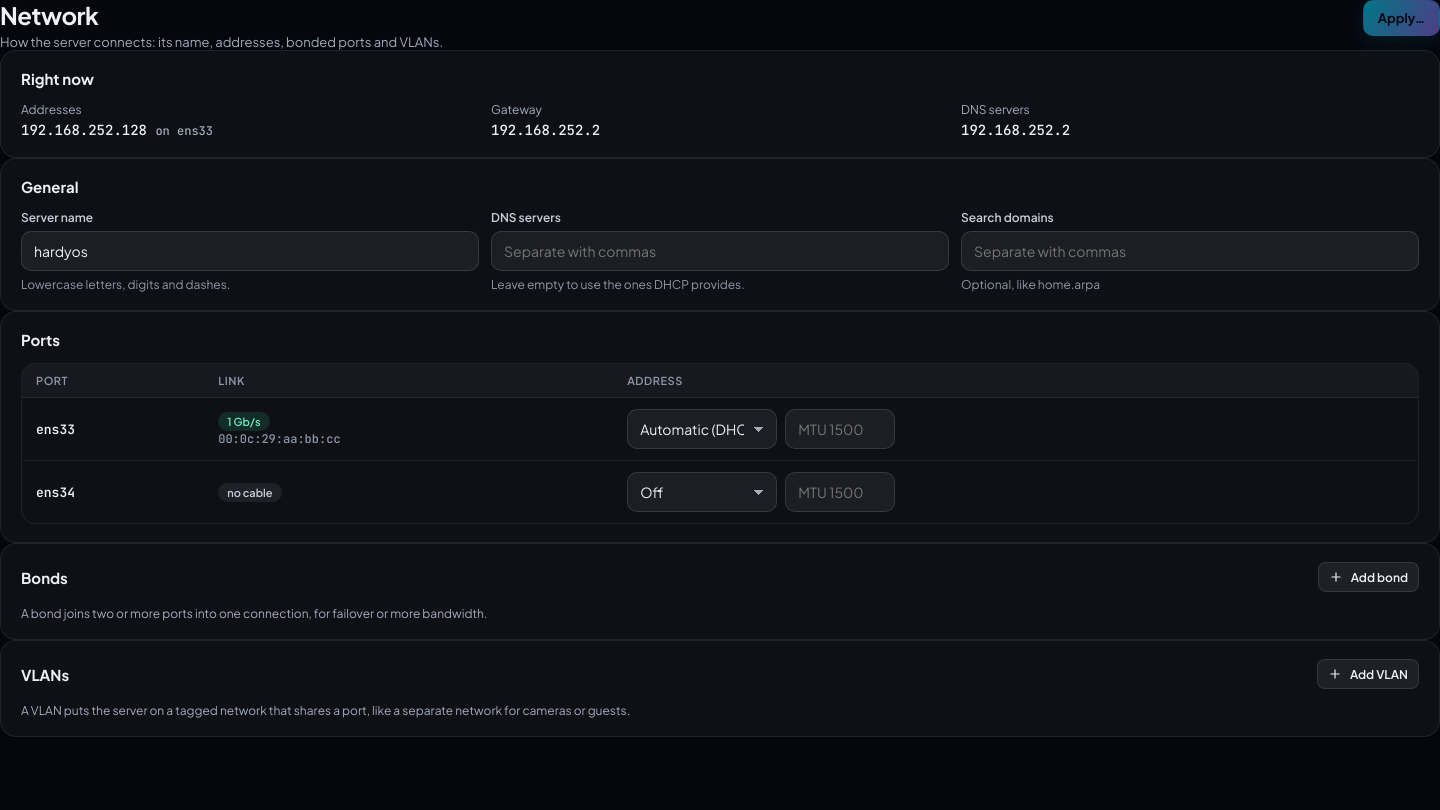
Scenario: Network › lists every problem the server finds
Replace the text in the field showing "hardyos" with "Bad Name". click: x=250, y=251
box: [21,231,479,271]
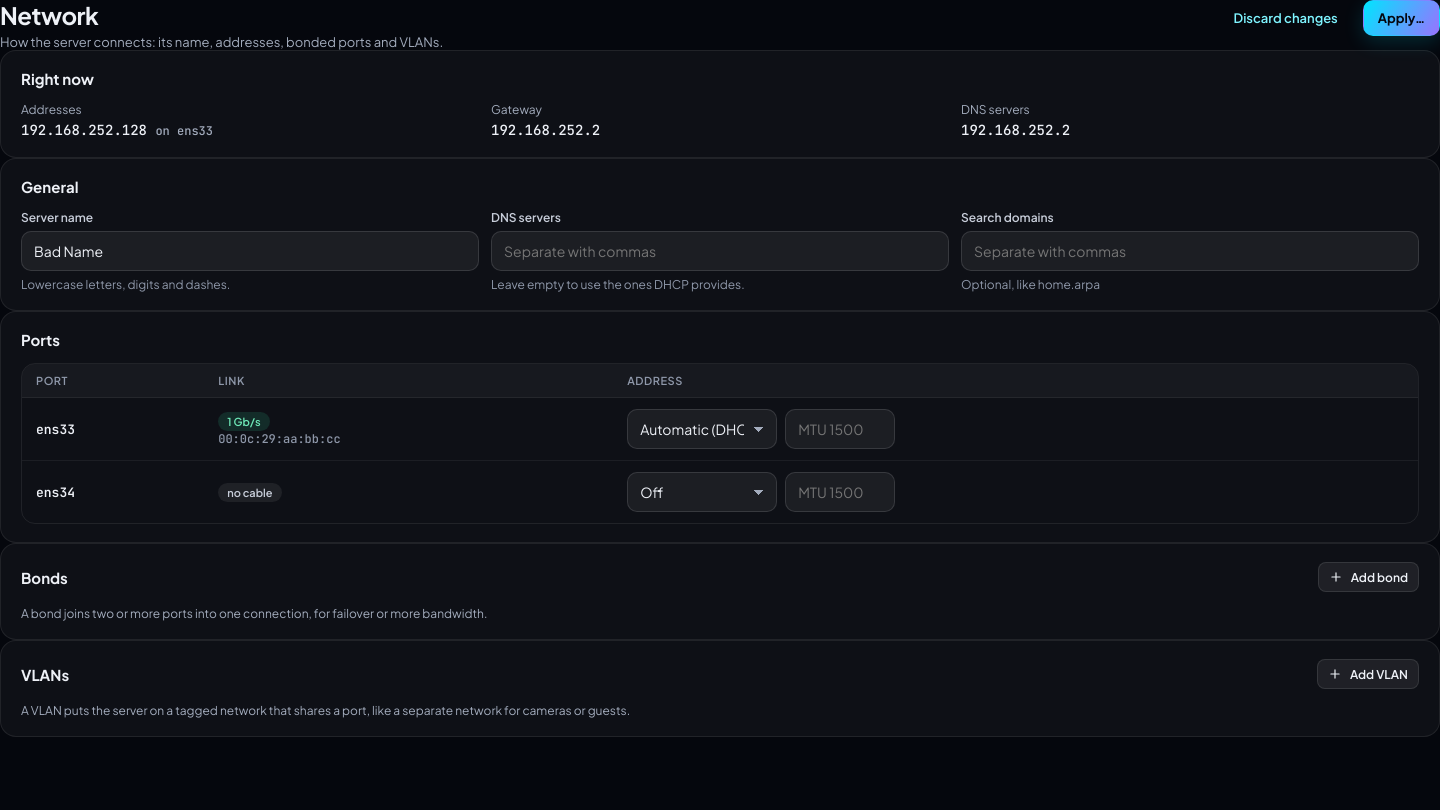
Click the button "Apply…". click: x=1401, y=18
box: [1363,0,1439,36]
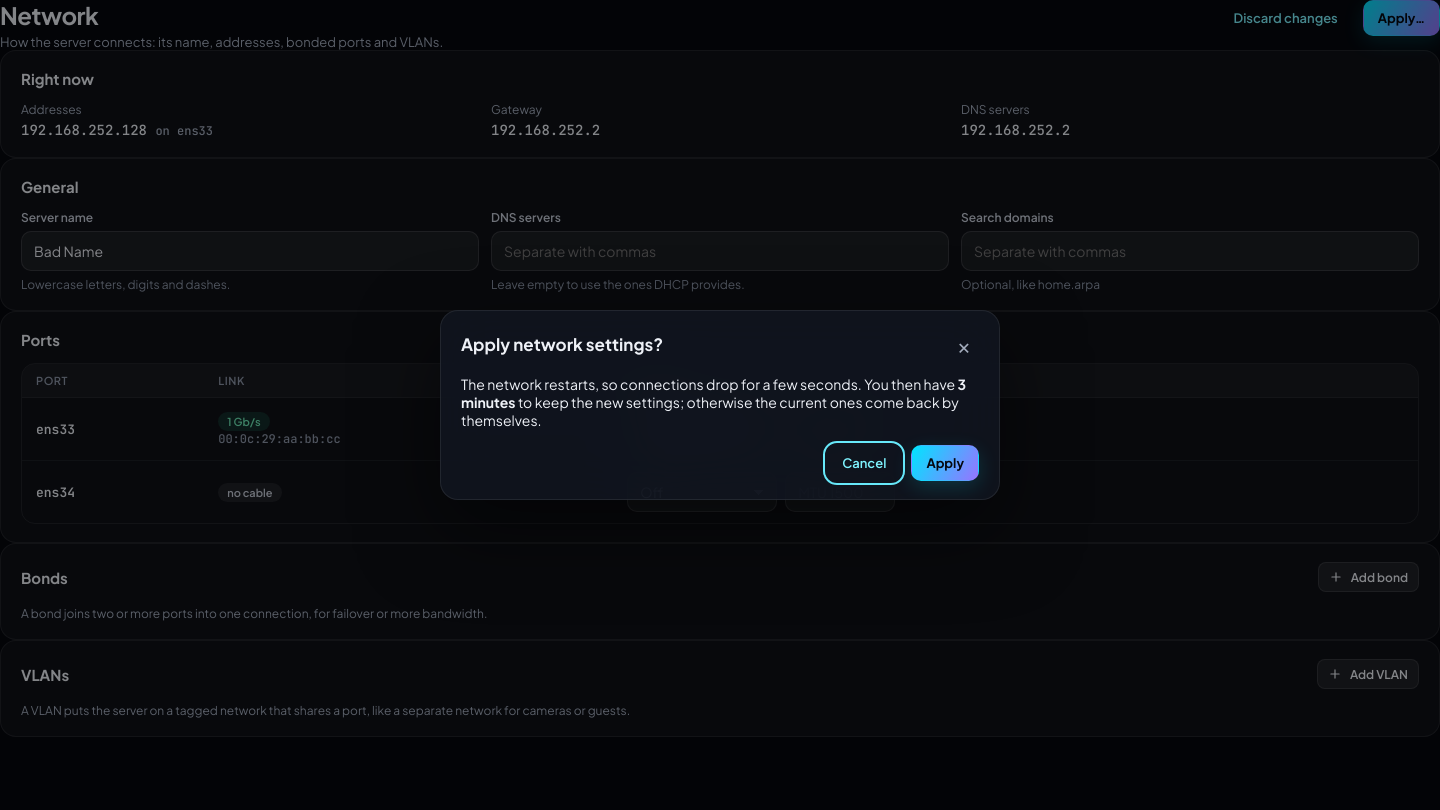
Click the button "Apply". click: x=945, y=463
box: [911,445,979,481]
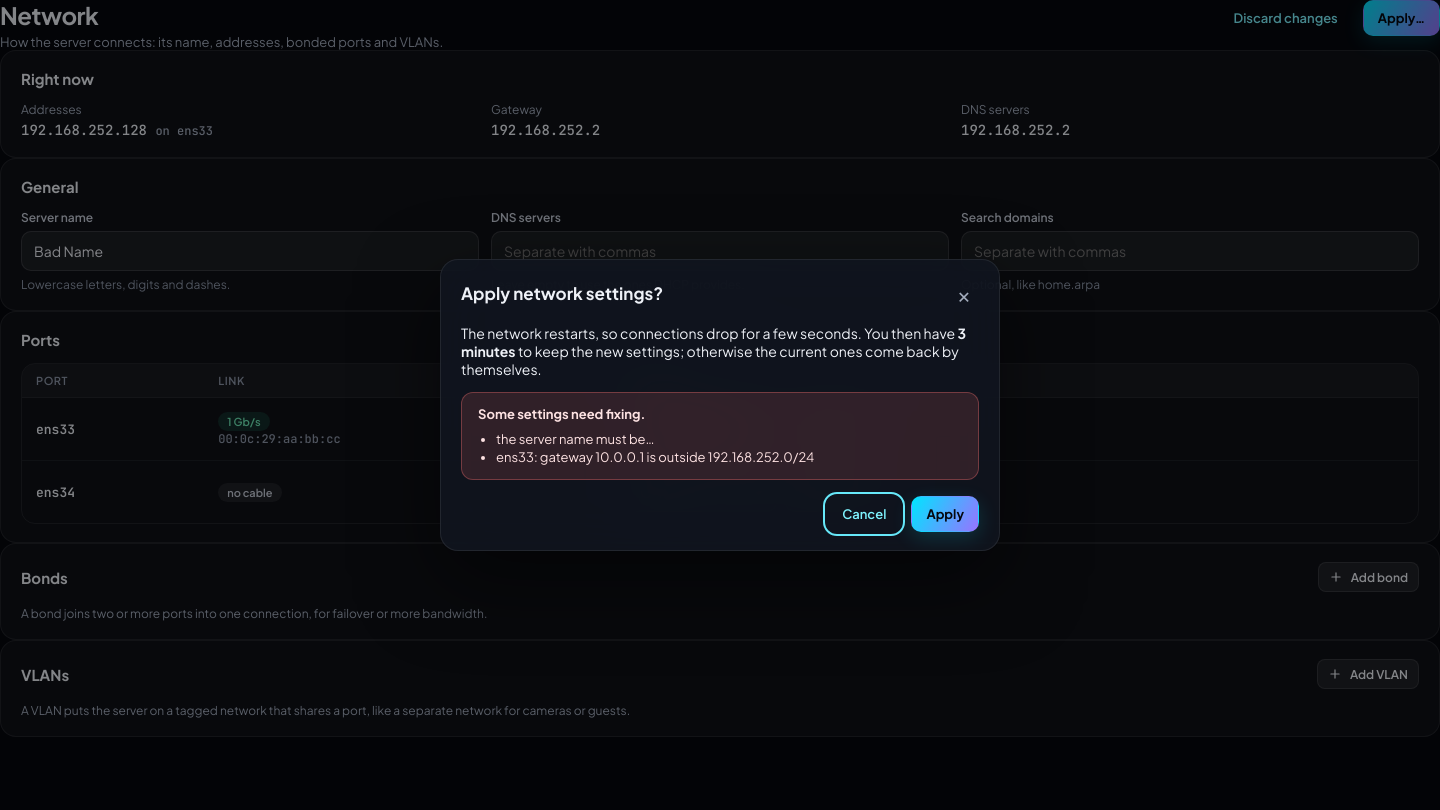
Now the text "Some settings need fixing." is shown, box [478,406,645,422]
Now the list item "ens33: gateway 10.0.0.1 is outside 192.168.252.0/24" is shown, box [496,449,814,465]
